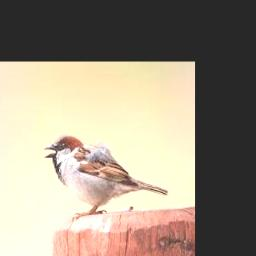Sparrow: (43, 134, 168, 220)
